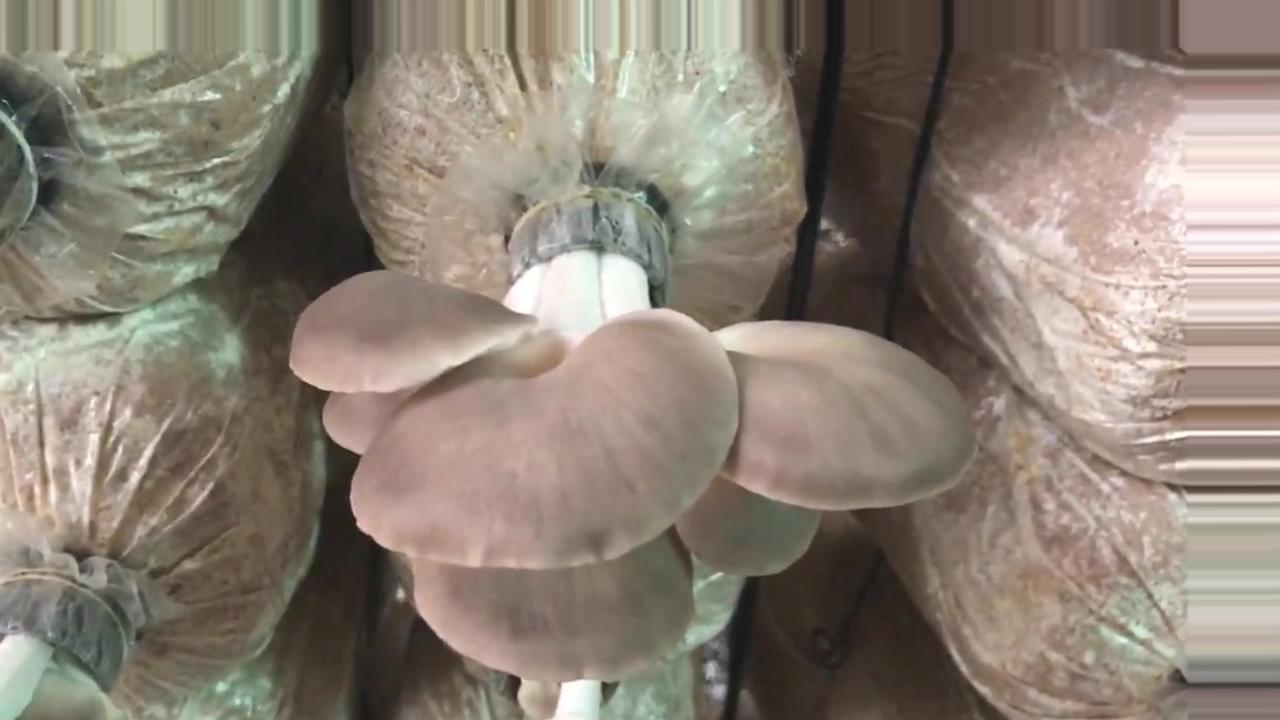nam: (292, 187, 974, 680), (1, 570, 133, 720)
